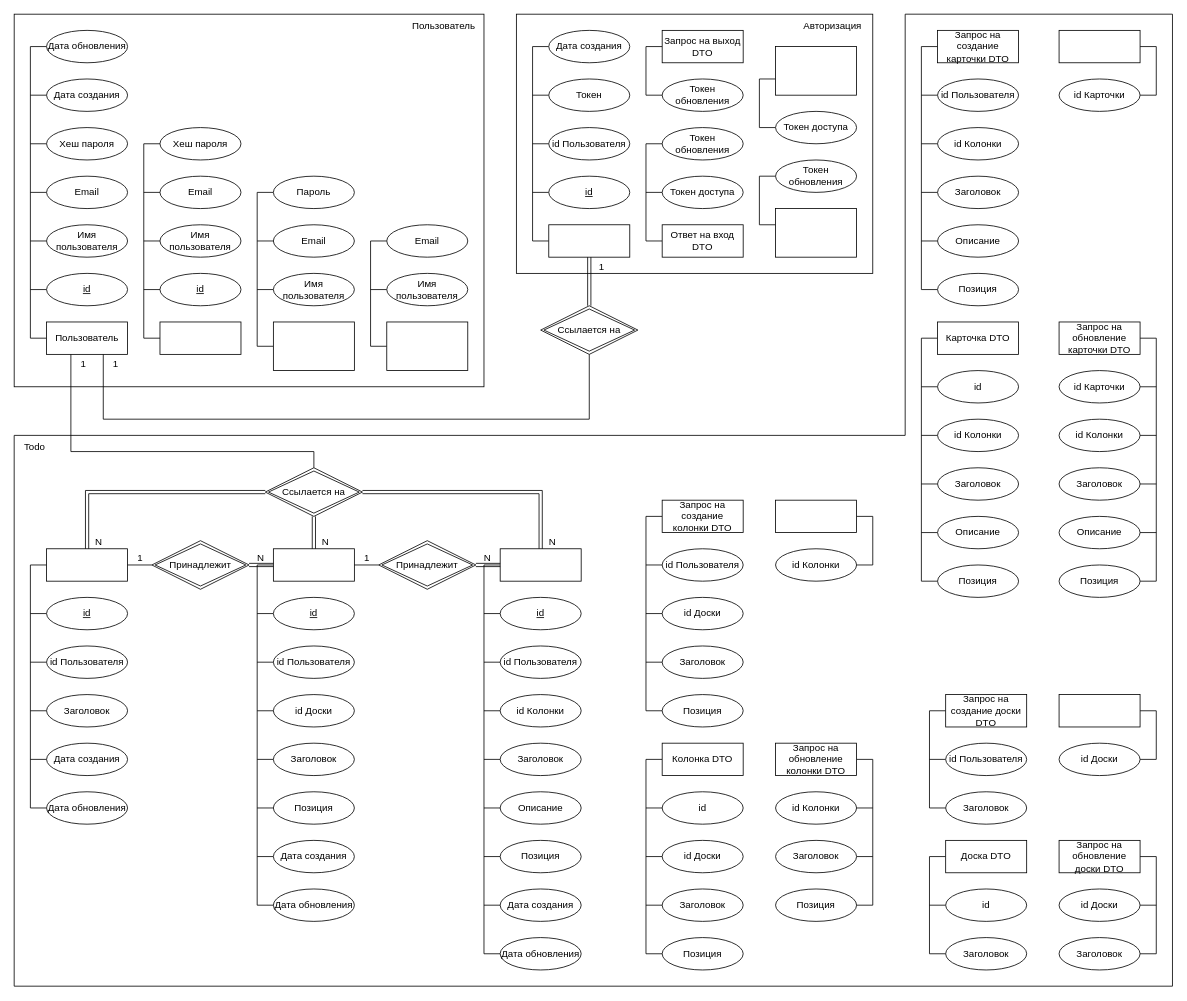
Image size: 1187x1001. Some labels were removed from this diagram. The box of each missing label's shape, as (x1, y1, x2, y2) in pixels:
Доска: (46, 548, 128, 581)
Запрос на обновление токена обновления DTO: (775, 208, 857, 257)
Карточка: (499, 548, 581, 581)
Колонка: (273, 548, 354, 581)
Обновить пользователя DTO: (386, 321, 468, 371)
Ответ на обновление токена обновления DTO: (775, 46, 857, 95)
Ответ на создание доски DTO: (1058, 694, 1140, 727)
Ответ на создание карточки DTO: (1058, 30, 1140, 63)
Ответ на создание колонки DTO: (775, 499, 857, 533)
Пользователь DTO: (159, 321, 241, 354)
Создать пользователя DTO: (273, 321, 354, 371)
Токен (обновления): (548, 224, 630, 257)
